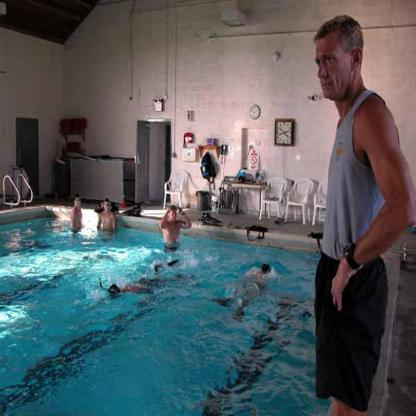face: (315, 36, 351, 101), (171, 211, 177, 222), (76, 198, 82, 207), (106, 203, 111, 212)
